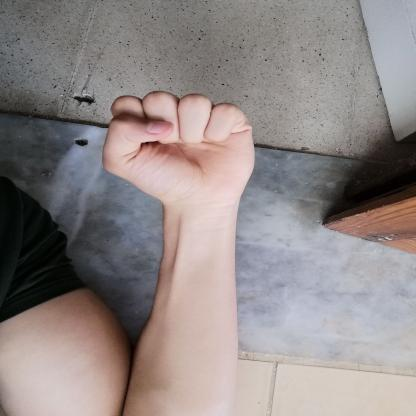SAD: (88, 79, 274, 222)
